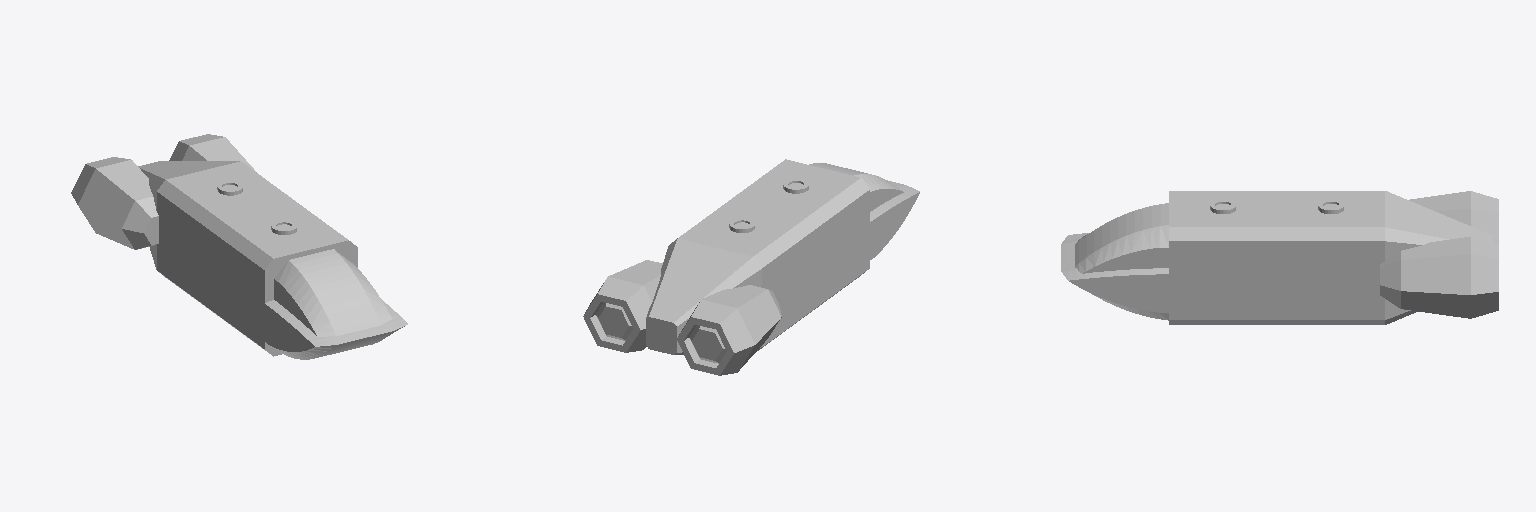
File: BGFreighterZ2.obj
The picture shows the model from 3 angles: view 1: azimuth 30°, elevation 25°; view 2: azimuth 150°, elevation 25°; view 3: azimuth 270°, elevation 25°; orthographic projection.
Bounding box in the file's own units: 1.77 × 1.04 × 4.05.